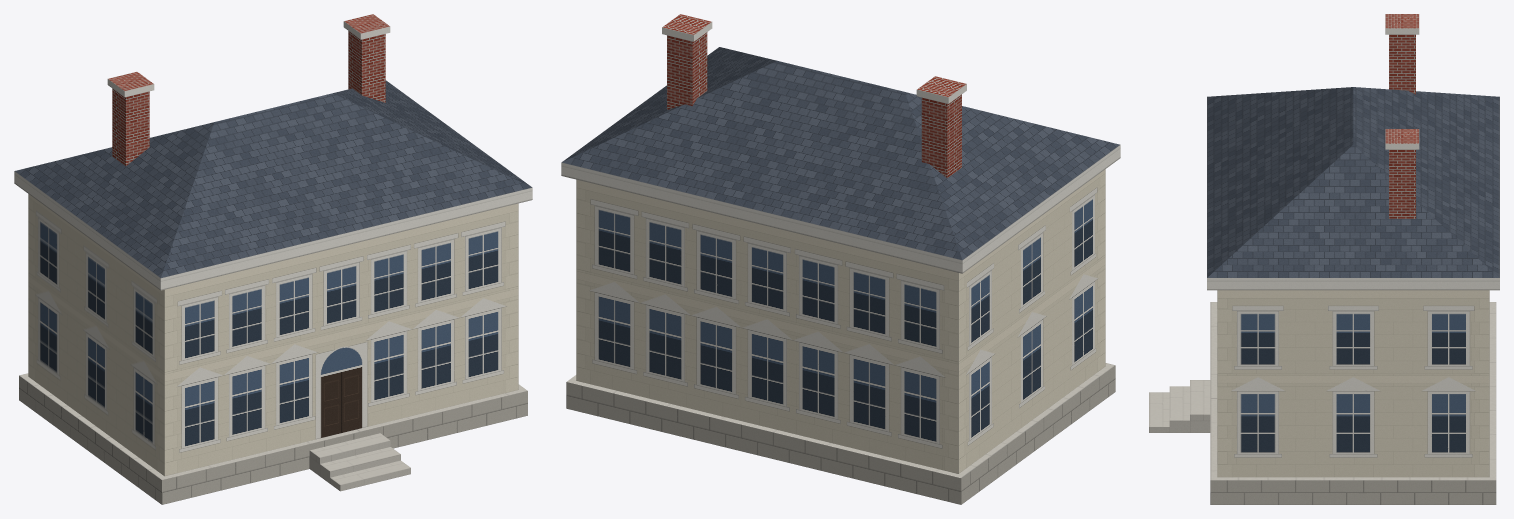
File: mansion.glb
The picture shows the model from 3 angles, left to right: view 1: azimuth 30°, elevation 25°; view 2: azimuth 150°, elevation 25°; view 3: azimuth 270°, elevation 25°; orthographic projection. The views are drawn at different scales.
Visible parts, largest first — view 1: Mansion; view 2: Mansion; view 3: Mansion.
Part boxes in pixels (<box>): Mansion: <box>14,14,532,504</box>; Mansion: <box>561,14,1120,504</box>; Mansion: <box>1149,14,1499,504</box>.
Size of the model in its own units: 12.6 by 10.92 by 10.3.
Materials: 1 (1 with a texture image).
